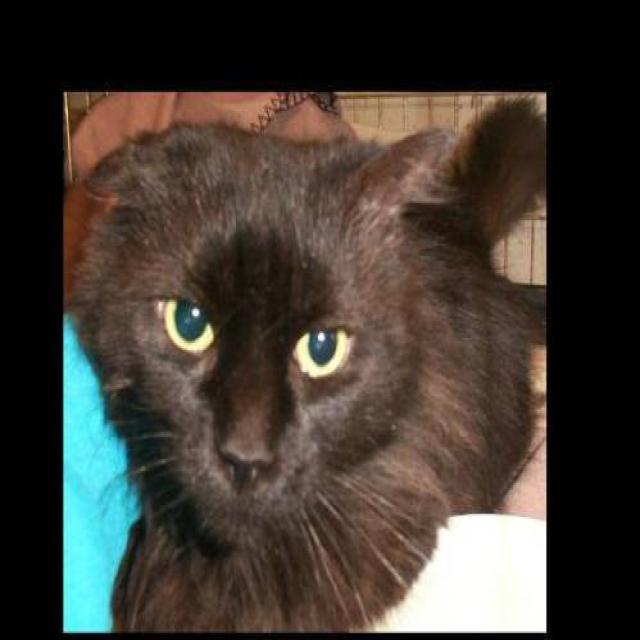cat: (64, 94, 546, 631)
